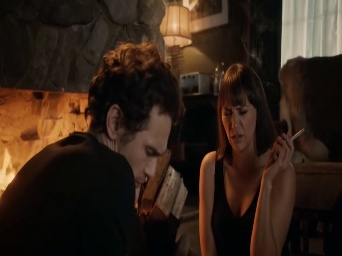smoke: (283, 128, 305, 149)
